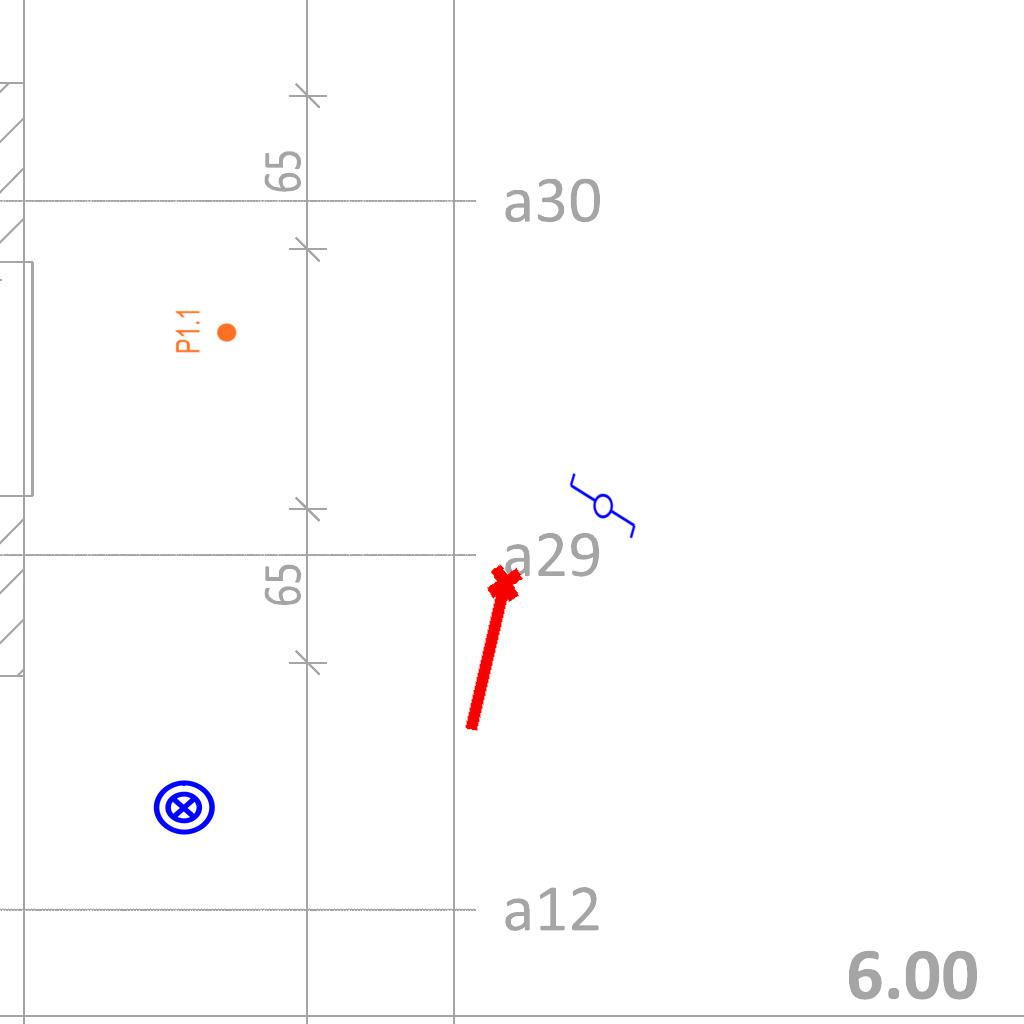ASR_Ansaugoeffnung: (449, 559, 535, 741)
Downlight_LED_Einbauleuchten_Flur_2: (174, 308, 238, 354)
Taster_beleuchtet: (151, 775, 217, 841)
Wechselschalter: (566, 471, 638, 549)
